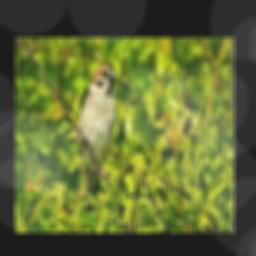Sparrow: (77, 65, 117, 212)
